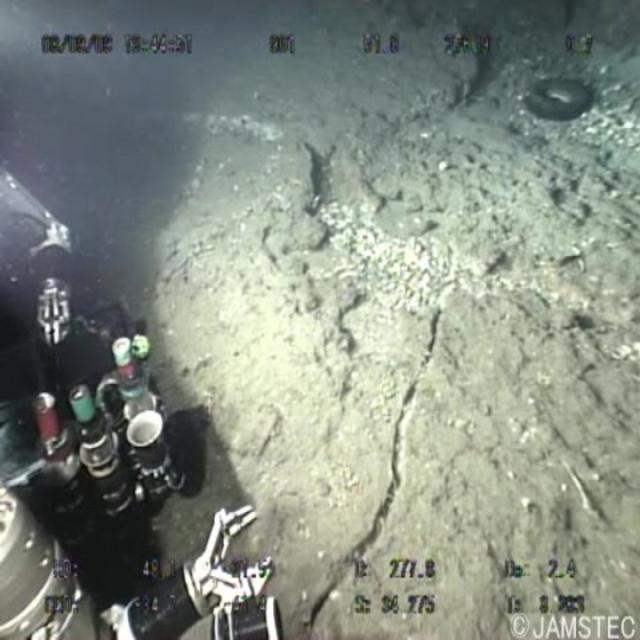Rubber: (509, 51, 614, 152)
